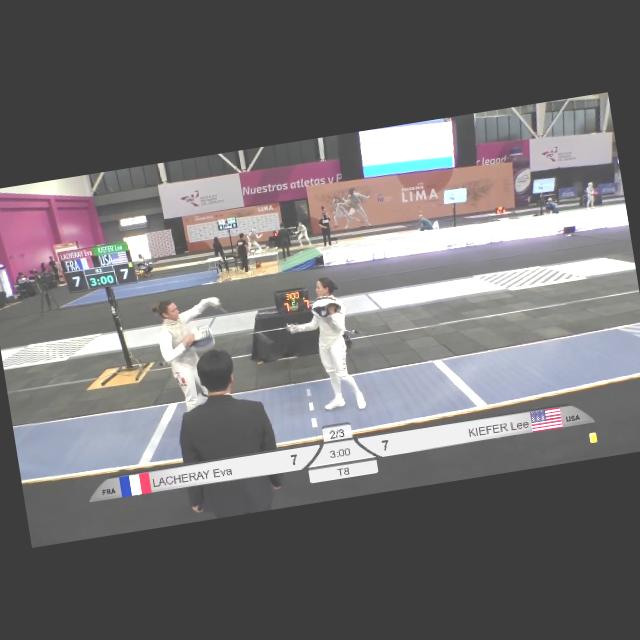blade: (214, 294, 276, 352), (221, 324, 292, 344)
